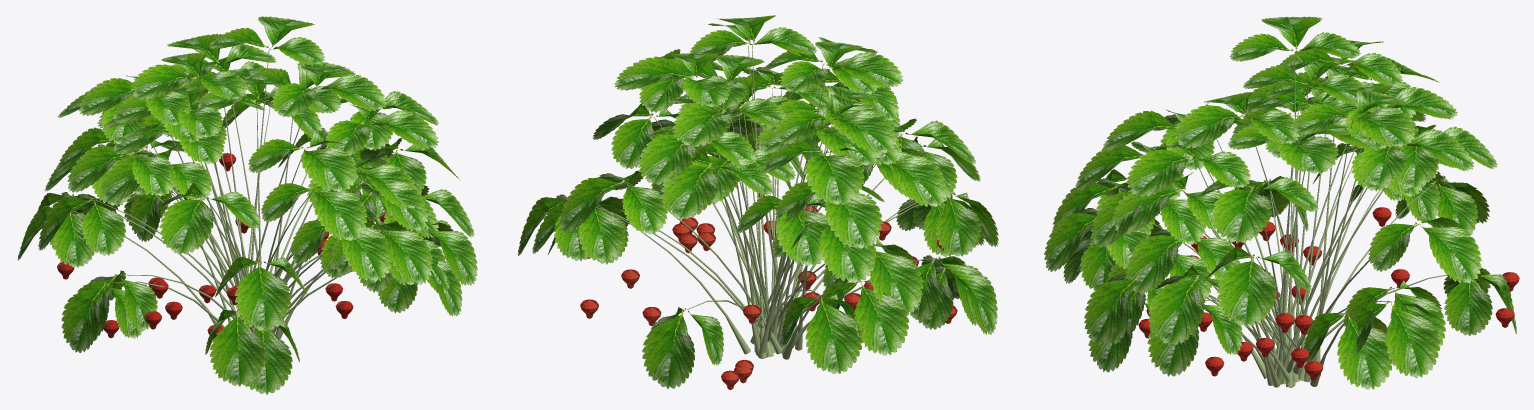
Rendered from Strawberry4.fbx.
The picture shows the model from 3 angles, left to right: view 1: azimuth 30°, elevation 25°; view 2: azimuth 150°, elevation 25°; view 3: azimuth 270°, elevation 25°; orthographic projection. The views are drawn at different scales.
Parts seen in each view (by area): view 1: strawberry4; view 2: strawberry4; view 3: strawberry4.
Boxes of the visible parts, box(x1,y1,x2,y2) form: strawberry4: box(17, 16, 477, 394); strawberry4: box(517, 15, 998, 389); strawberry4: box(1044, 16, 1519, 389).
Bounding box in the file's own units: 62.99 × 63.61 × 46.26.
